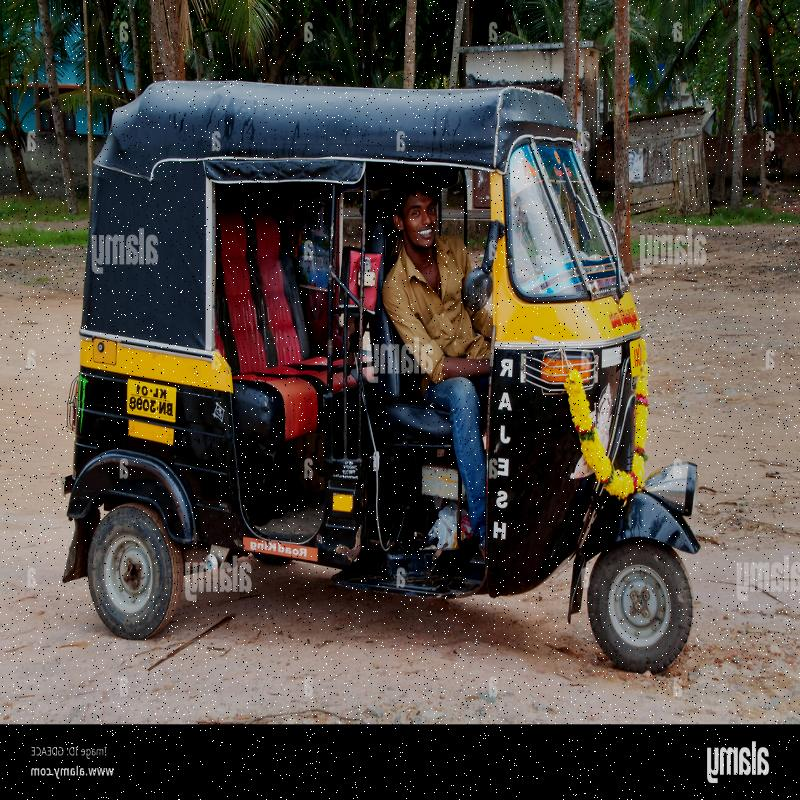auto: (85, 72, 718, 661)
